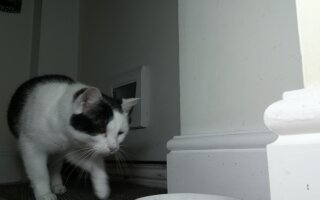bad: (9, 70, 139, 198)
